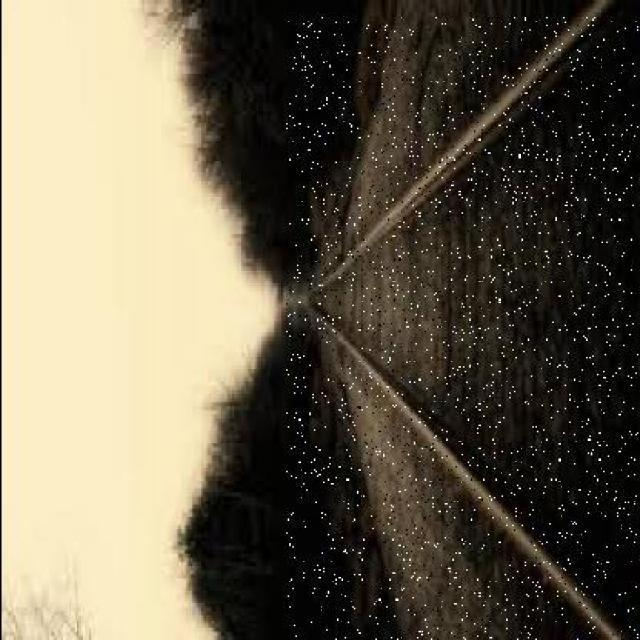rail: (285, 17, 637, 640)
